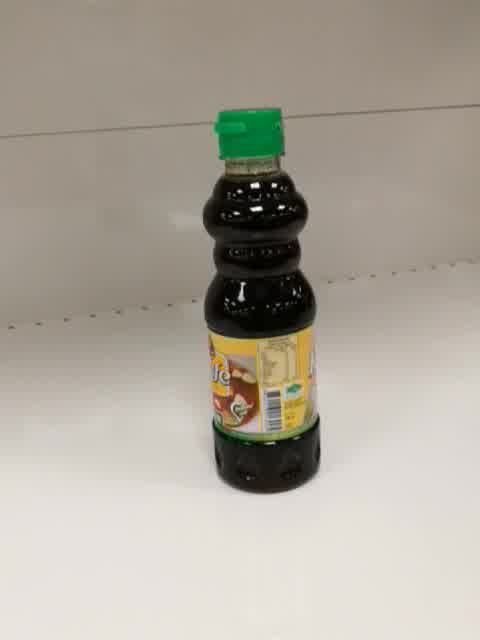cookingoil: (201, 103, 324, 496)
